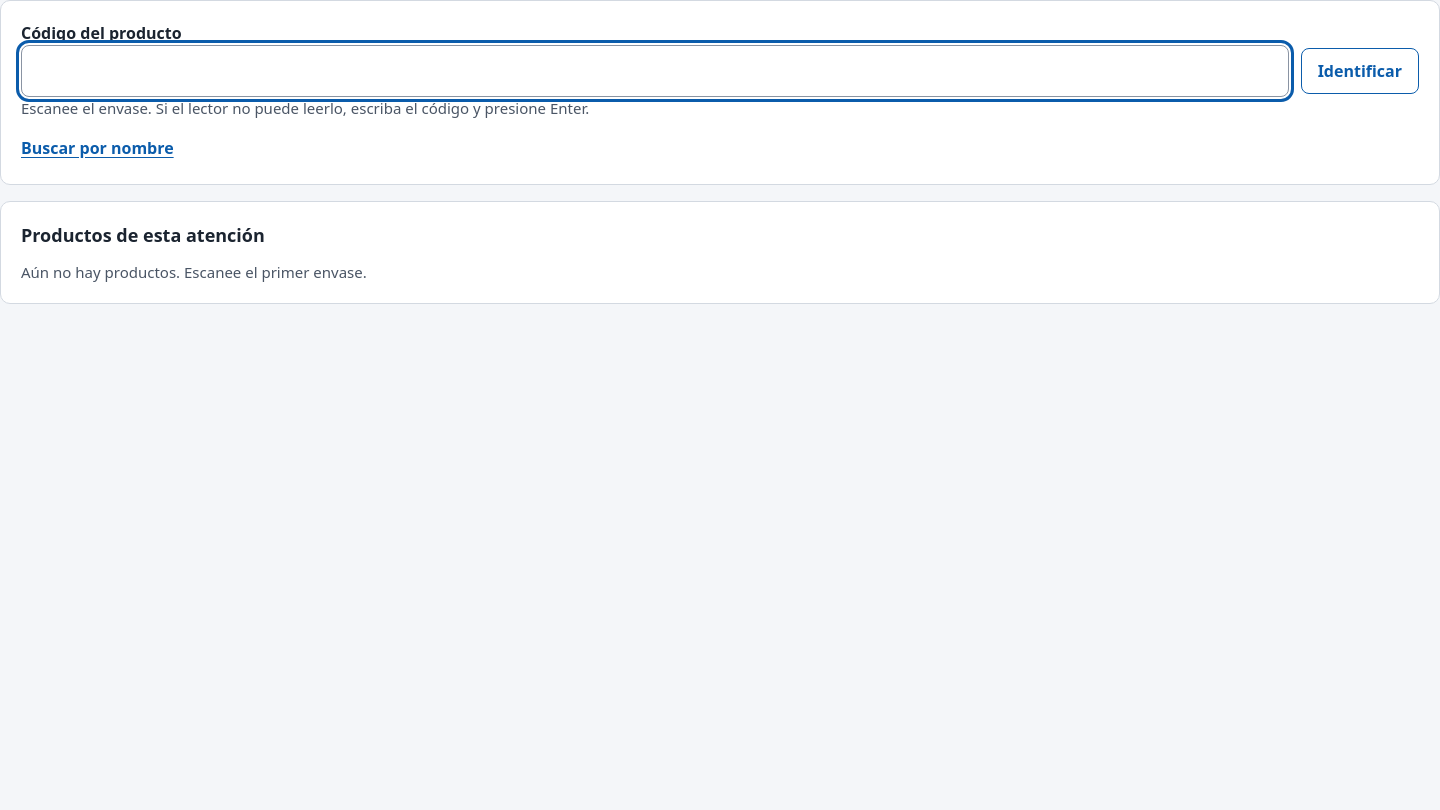
Scenario: PantallaMeson (HU-02) › un producto se puede quitar de la atención
The image size is (1440, 810).
Type keys "7802250012344{Enter}"
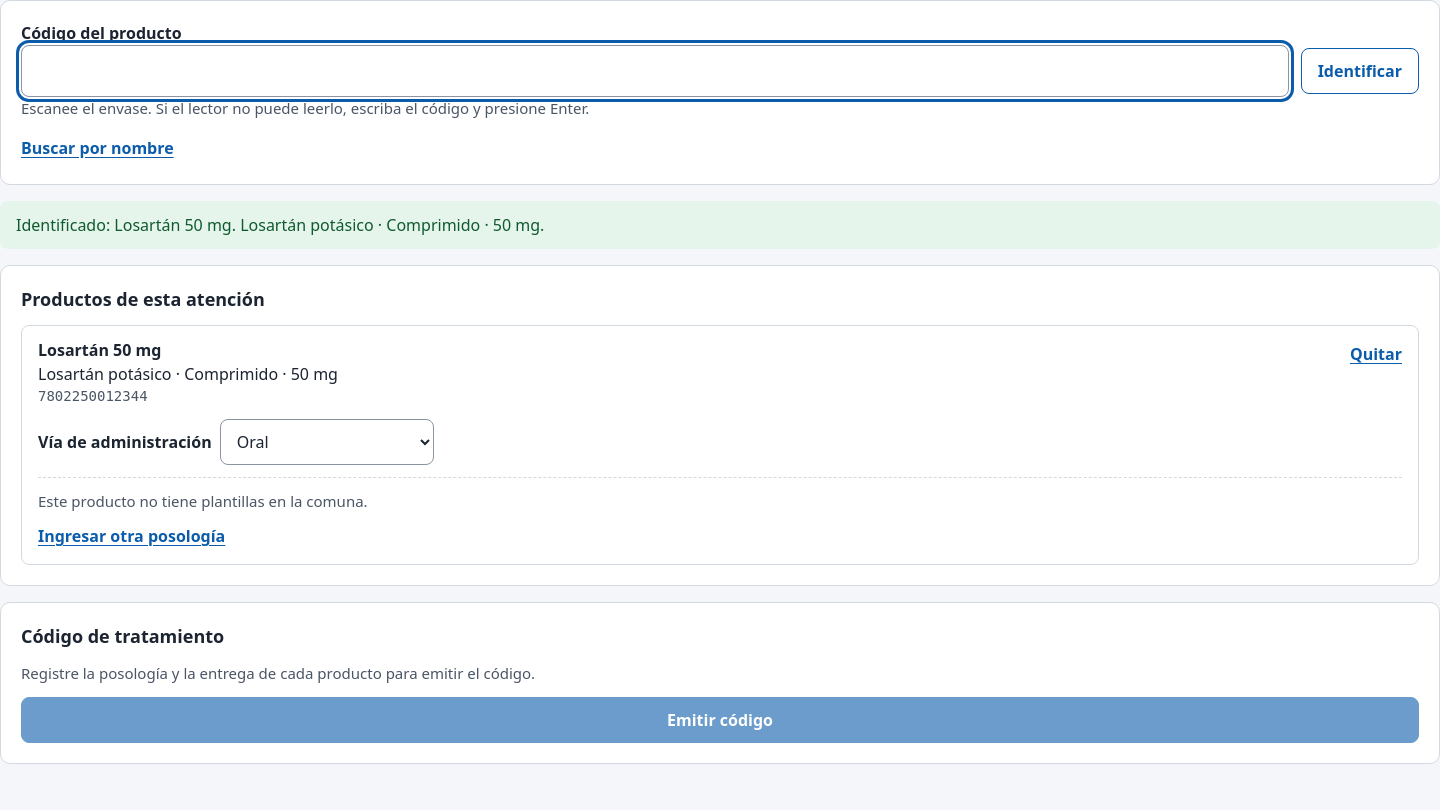
Check: the text "Losartán 50 mg" is shown, box [38,338,161,360]
Click the button with aria-label "Quitar Losartán 50 mg".
click(1376, 354)  # box [1350,338,1402,370]
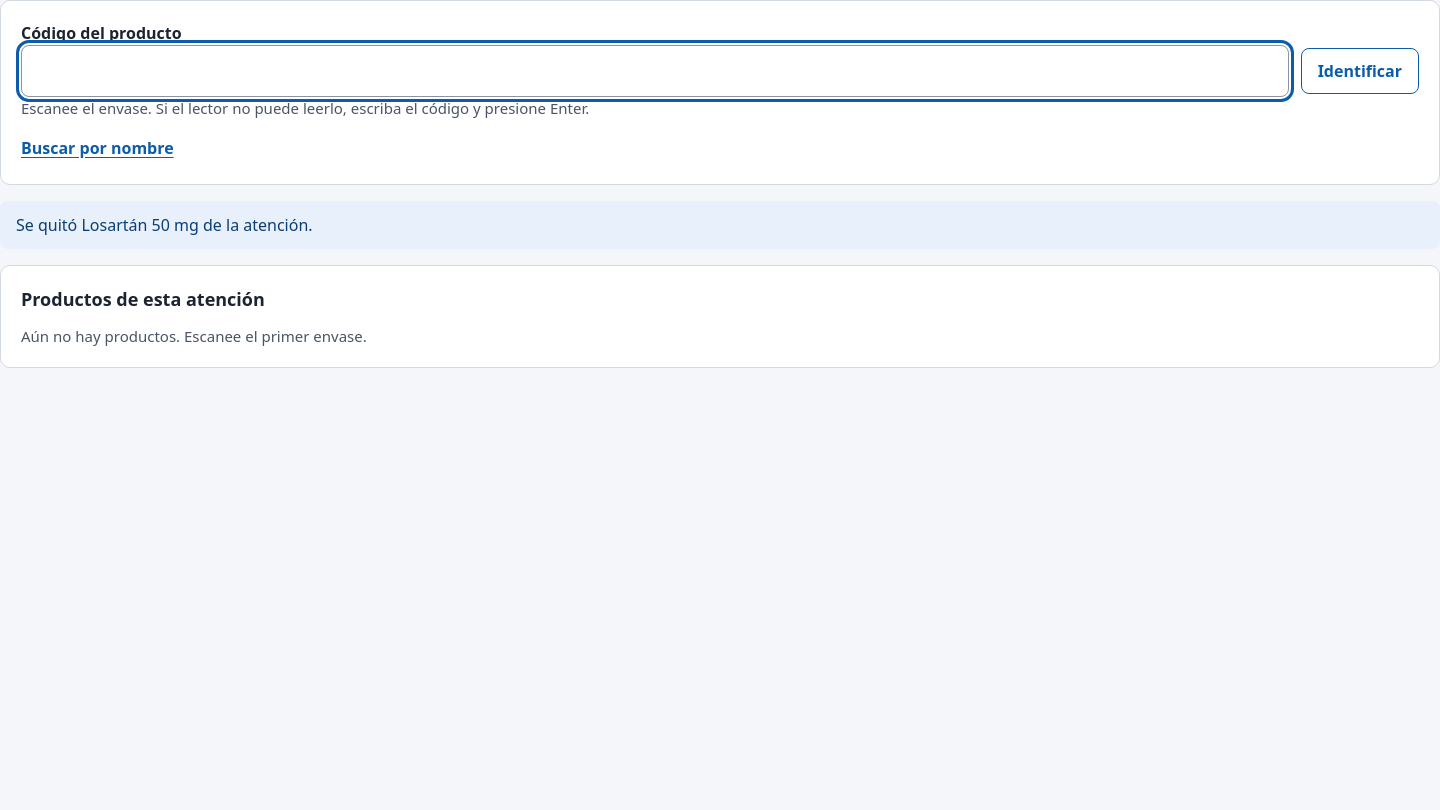
Check: the text "Se quitó Losartán 50 mg de la atención." is shown, box [0,200,1439,248]
